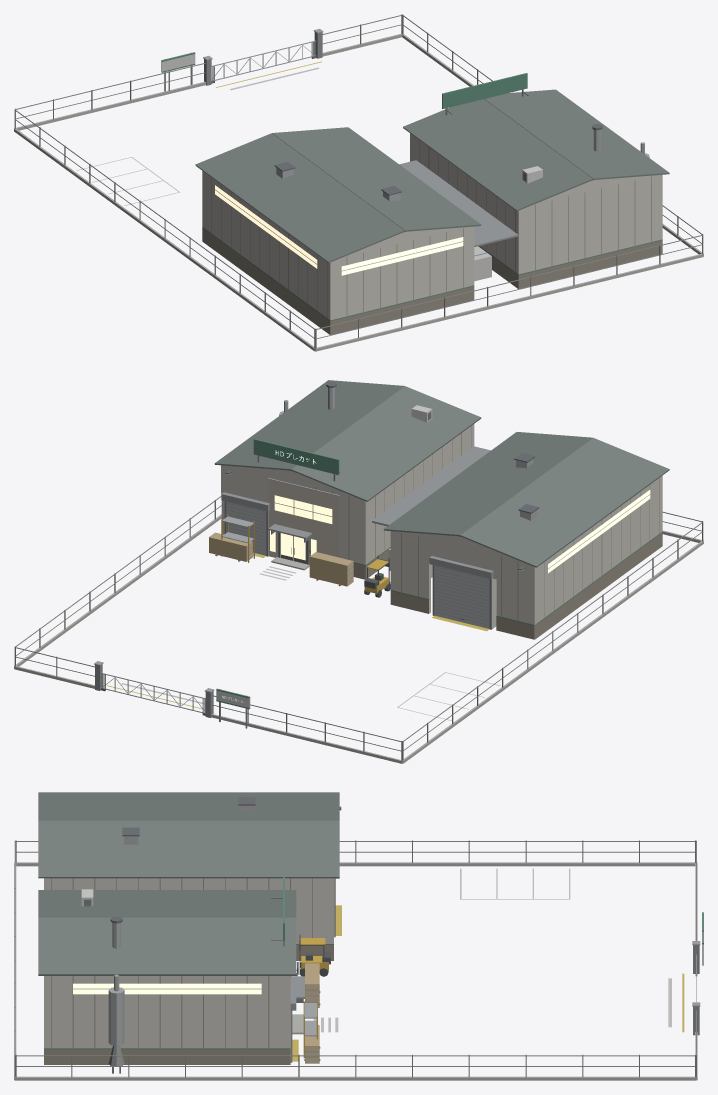
The model's file is biz_4001.glb.
The picture shows the model from 3 angles, top to bottom: view 1: azimuth 30°, elevation 25°; view 2: azimuth 150°, elevation 25°; view 3: azimuth 270°, elevation 25°; orthographic projection. The views are drawn at different scales.
Parts seen in each view (by area): view 1: Static, Windows, Gate_Closed; view 2: Static, Shutter_Down, Windows, Gate_Closed; view 3: Static, Windows.
Boxes of the visible parts, x1,y1,x2,y2 form: Static: [14, 14, 703, 351]; Windows: [215, 185, 463, 275]; Gate_Closed: [211, 40, 316, 83]; Static: [14, 380, 703, 763]; Shutter_Down: [226, 502, 489, 628]; Windows: [270, 490, 650, 573]; Gate_Closed: [101, 673, 205, 715]; Static: [14, 792, 703, 1080]; Windows: [73, 983, 261, 994].
Size of the model in its own units: 35.16 by 9.71 by 47.6.
